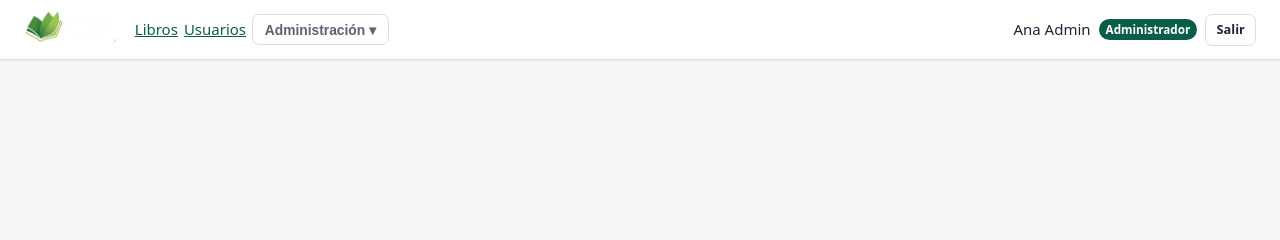
Test case: AppLayout › shows Libros, Usuarios, Auditoría and catalog links under Administración for an ADMIN
Expected: the link "Libros" is shown, [135, 19, 178, 40]
Expected: the link "Usuarios" is shown, [184, 19, 246, 40]
Note: The catalog links live inside the dropdown panel, only visible when open.
Click the button "Administración ▾" at {"x": 320, "y": 30}, box [252, 14, 389, 45]
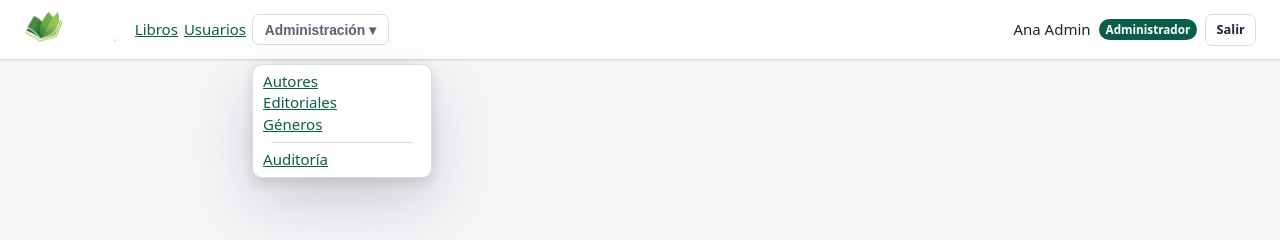
Expected: the menu named "Administración" is shown, [252, 64, 432, 178]
Expected: the link "Autores" is shown, [263, 71, 318, 91]
Expected: the link "Editoriales" is shown, [263, 92, 337, 112]
